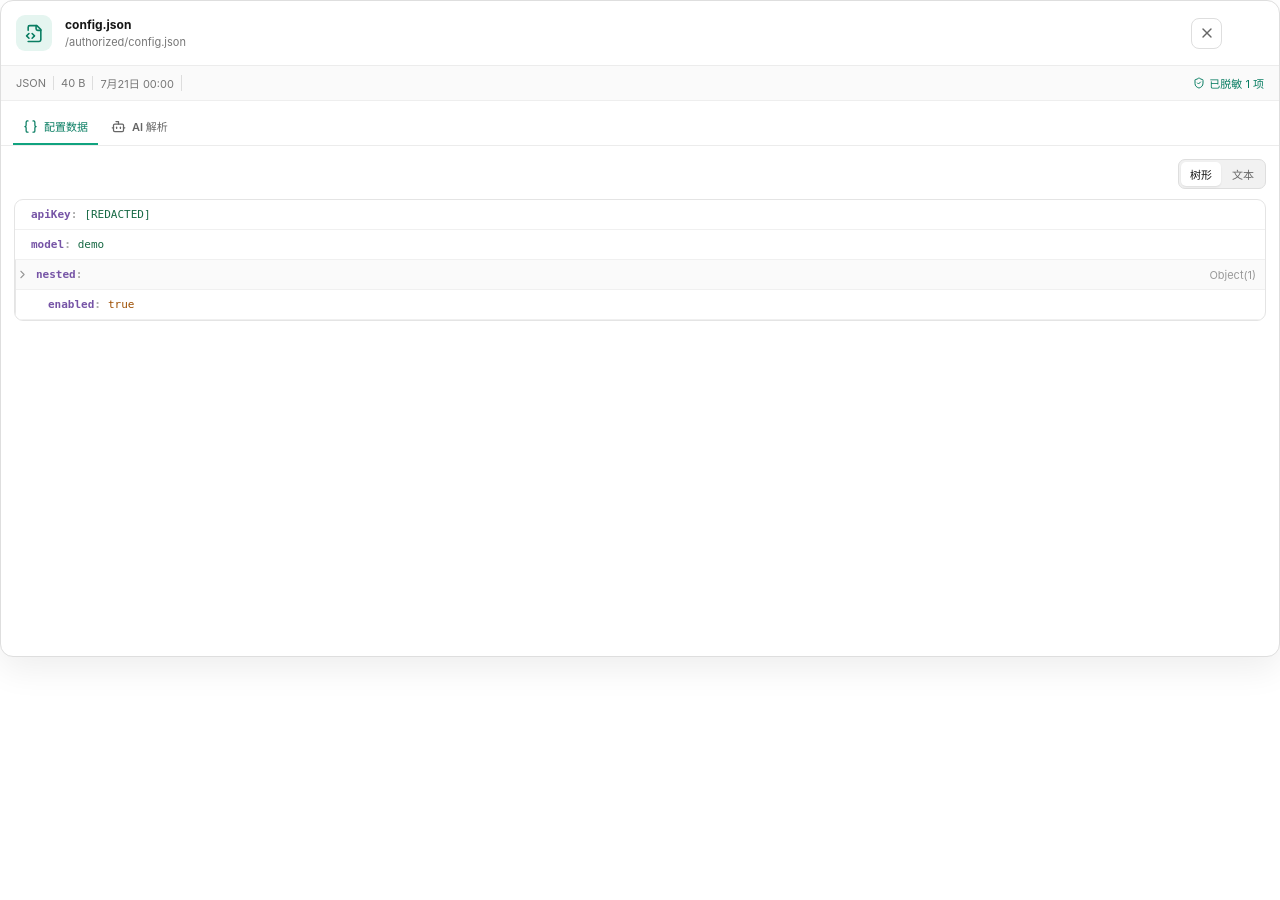
Scenario: ConfigDetail › explains the consent prerequisite before offering network analysis
What coordinates should you click on to do the following:
click the button "AI 解析"
I would click on:
 (139, 127)
Its box is [101,109,178,145].
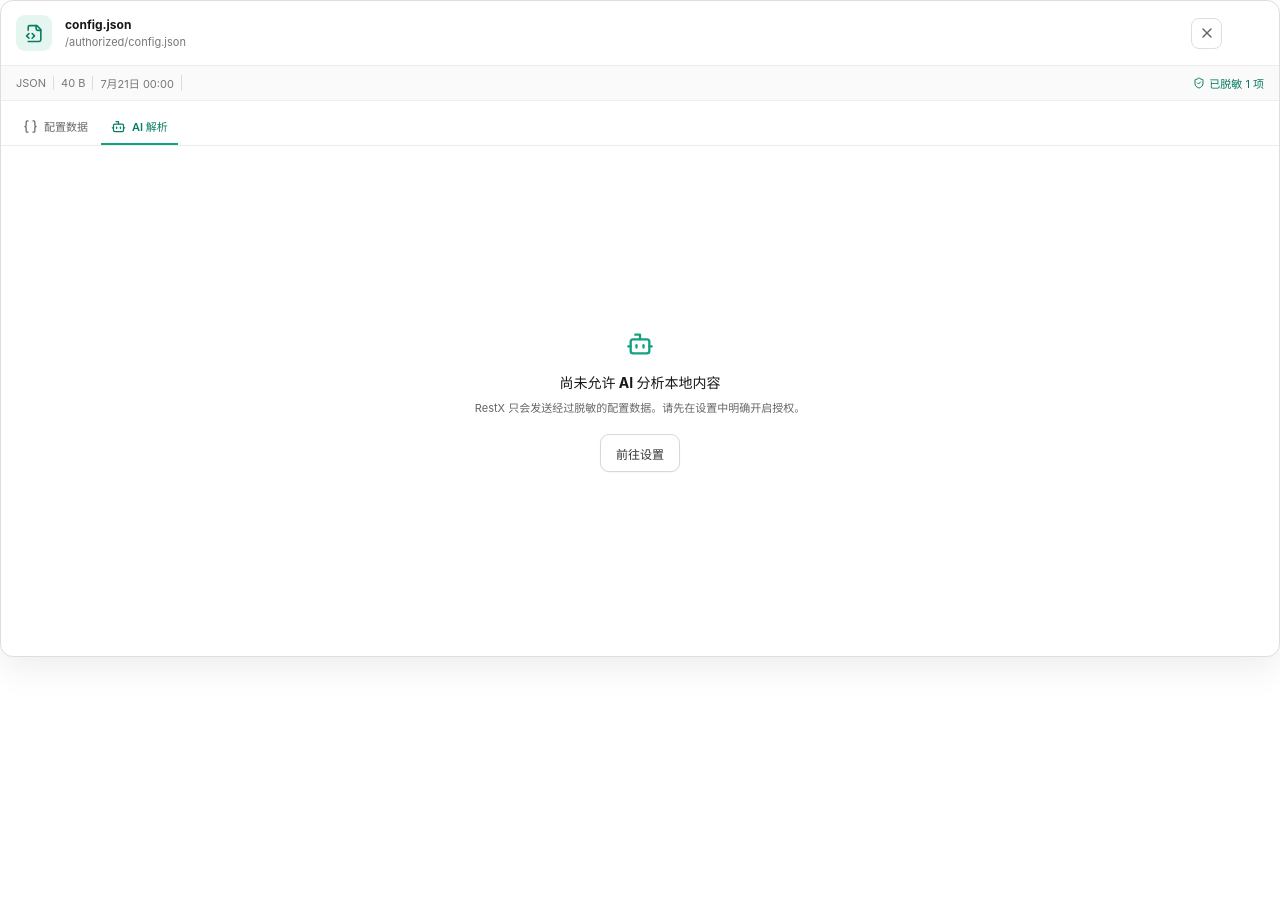
Expected: the heading "尚未允许 AI 分析本地内容" is shown, [560,372,720,392]
